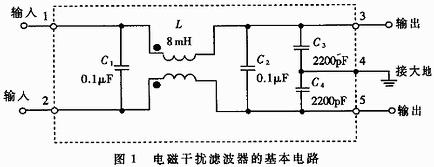cap1: (292, 42, 312, 53), (239, 63, 258, 74), (293, 84, 312, 95), (113, 62, 131, 73)
gnd: (379, 76, 399, 89)
trans: (145, 42, 221, 89)
